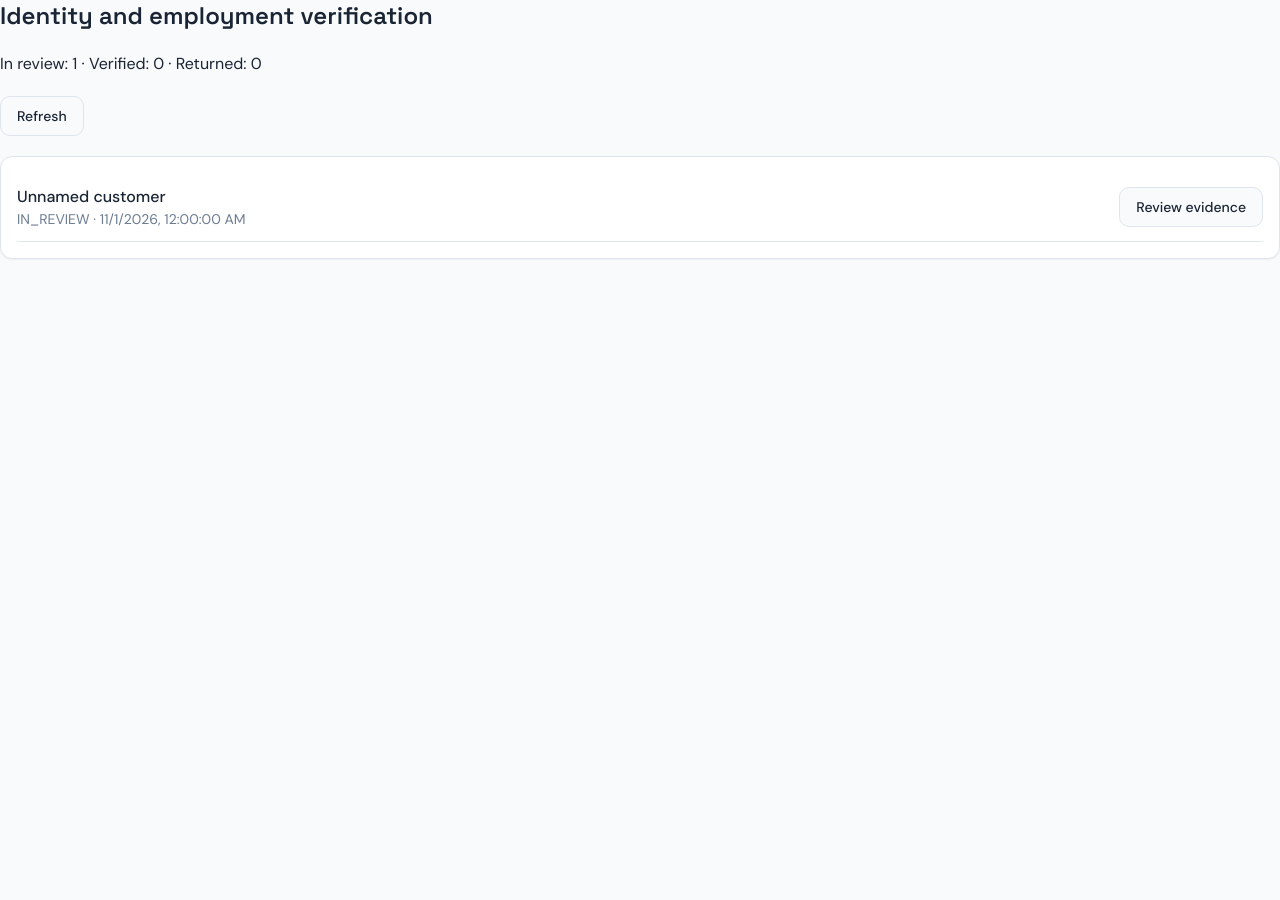
Test: reports denied evidence access without calling OCR or approving KYC
Click the button "Review evidence".
click(1191, 207)  # box [1119,187,1263,227]
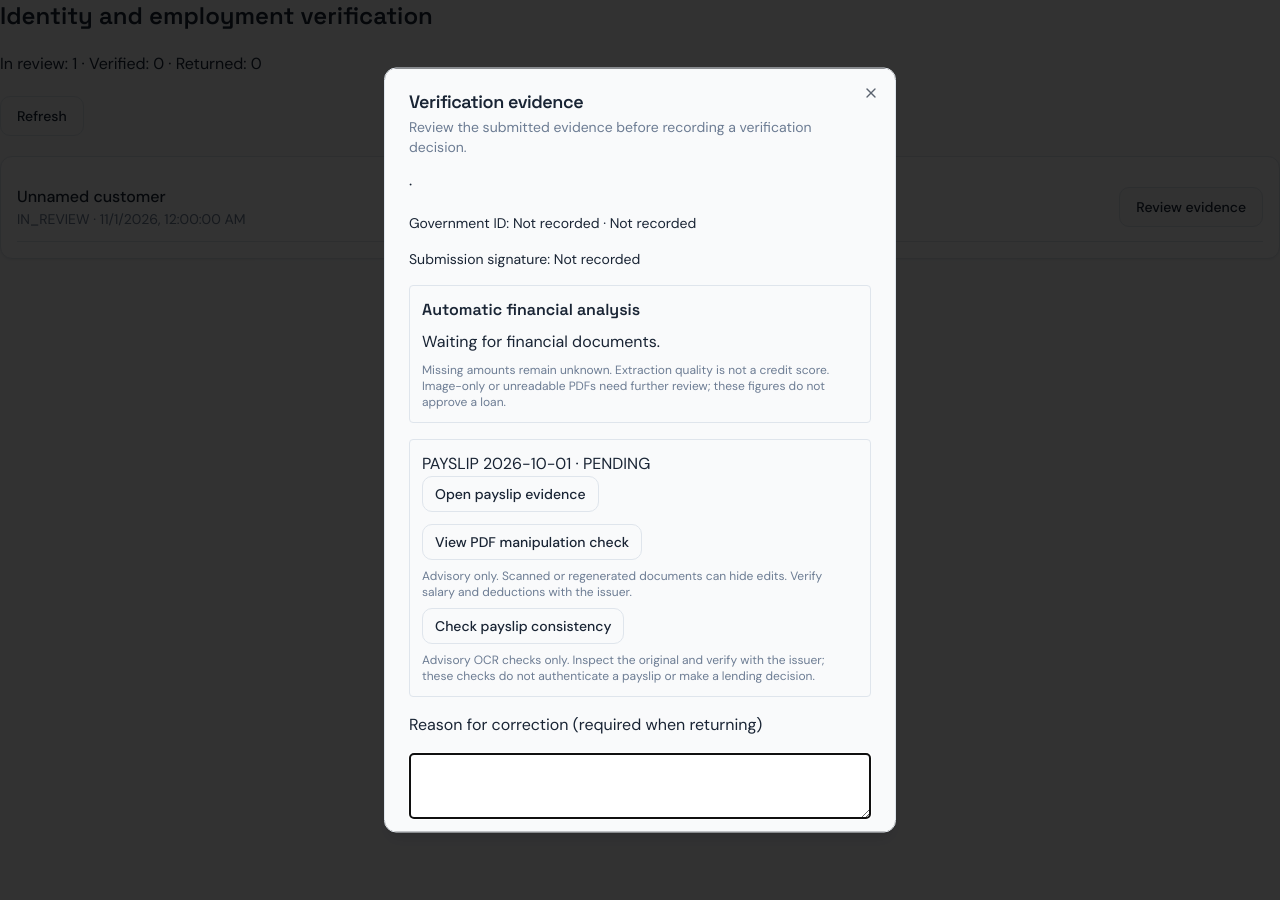
Click the button "Check payslip consistency".
click(523, 626)  # box [422,608,624,644]
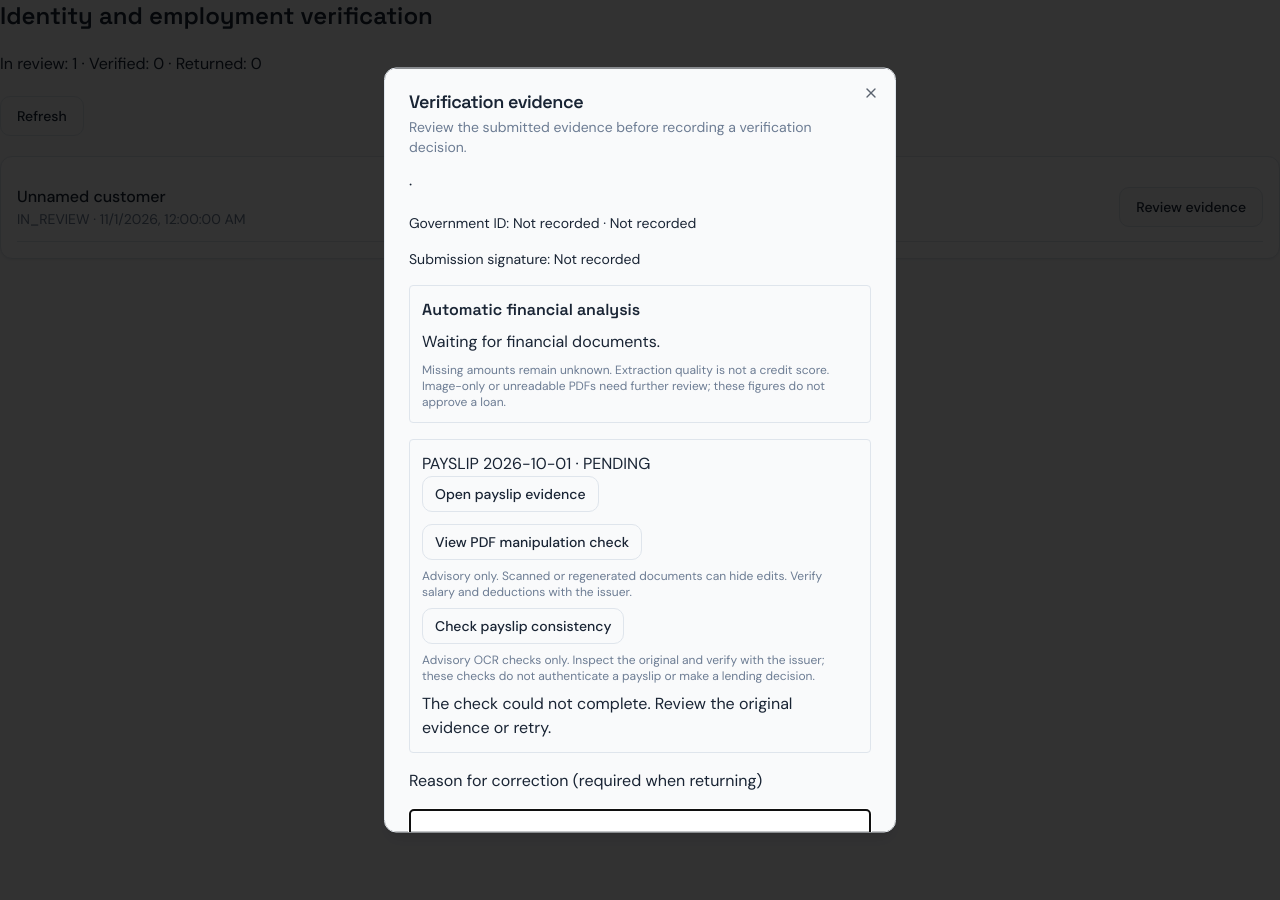
Expected: the text "The check could not complete. Review the original evidence or retry." is shown, [422,692,792,738]
